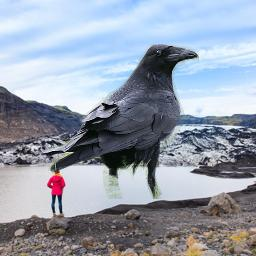Crow: (39, 44, 199, 199)
